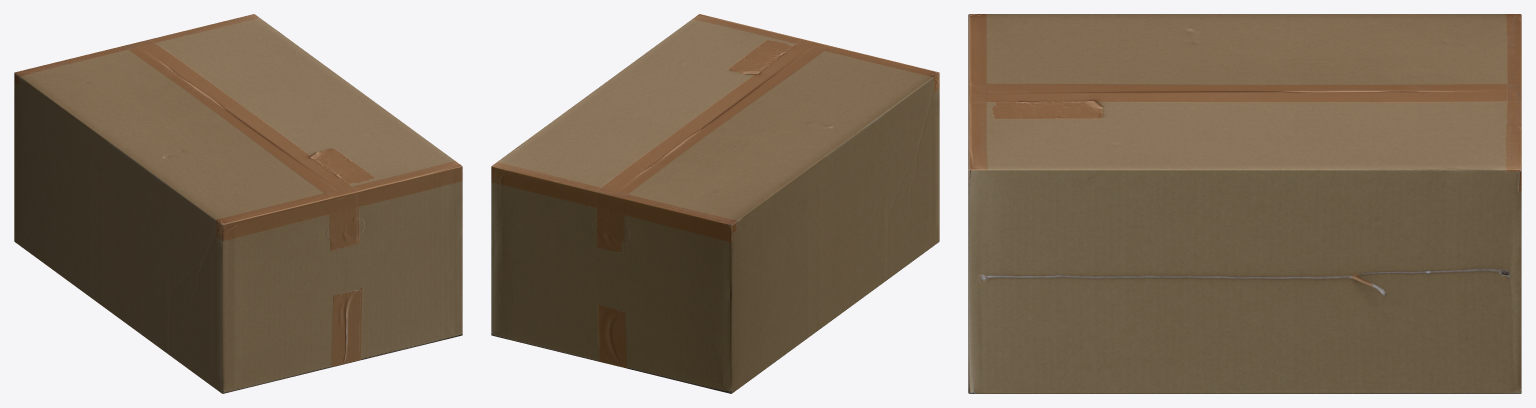
Rendered from Preset_CardboardBox.fbx.
The picture shows the model from 3 angles, left to right: view 1: azimuth 30°, elevation 25°; view 2: azimuth 150°, elevation 25°; view 3: azimuth 270°, elevation 25°; orthographic projection. The views are drawn at different scales.
Visible parts, largest first — view 1: o15, o18, o19, o13, o14; view 2: o15, o18, o17, o13, Mesh_0_Mat_74_Tex_256, Mesh_1_Mat_74_Tex_512; view 3: o16, o15, o13.
Part boxes in pixels (x1=…): o15: x1=20, y1=18, x2=454, y2=219; o18: x1=14, y1=76, x2=222, y2=393; o19: x1=222, y1=181, x2=462, y2=393; o13: x1=14, y1=14, x2=462, y2=224; o14: x1=222, y1=166, x2=462, y2=367; o15: x1=497, y1=19, x2=932, y2=220; o18: x1=731, y1=77, x2=939, y2=393; o17: x1=491, y1=182, x2=731, y2=393; o13: x1=491, y1=14, x2=939, y2=224; Mesh_0_Mat_74_Tex_256: x1=491, y1=166, x2=731, y2=368; Mesh_1_Mat_74_Tex_512: x1=596, y1=230, x2=624, y2=254; o16: x1=968, y1=169, x2=1521, y2=393; o15: x1=986, y1=14, x2=1507, y2=169; o13: x1=968, y1=14, x2=1521, y2=169.
Size of the model in its own units: 44 by 66 by 29.6.
Materials: 12 (12 with a texture image).
